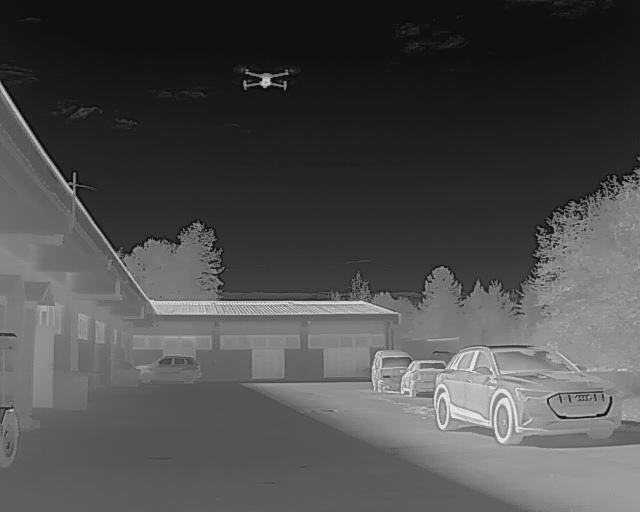drone: (229, 60, 305, 98)
